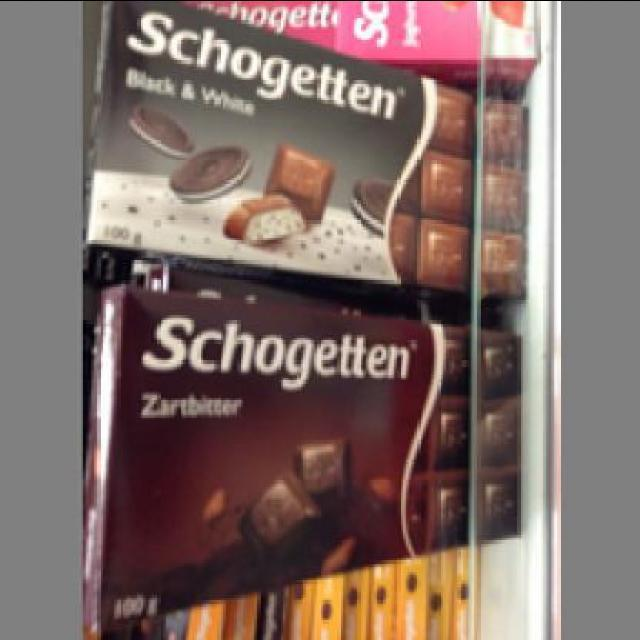Chocolate bar: (83, 290, 514, 634), (83, 3, 523, 300)
